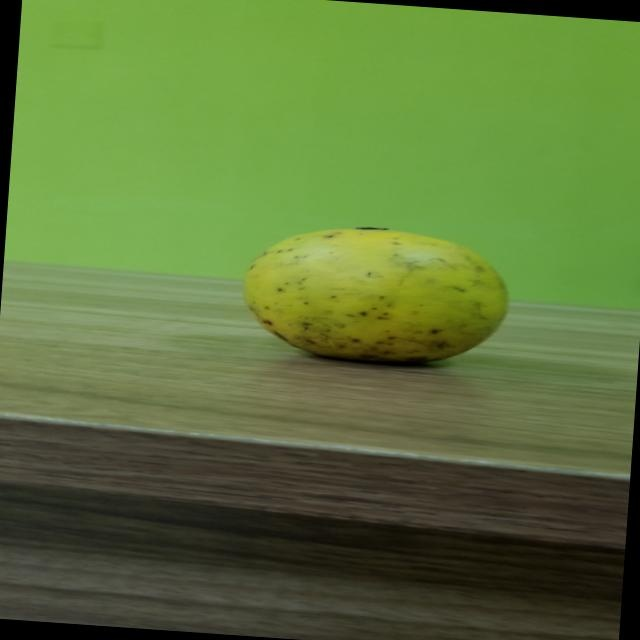agrume: (245, 206, 513, 381)
